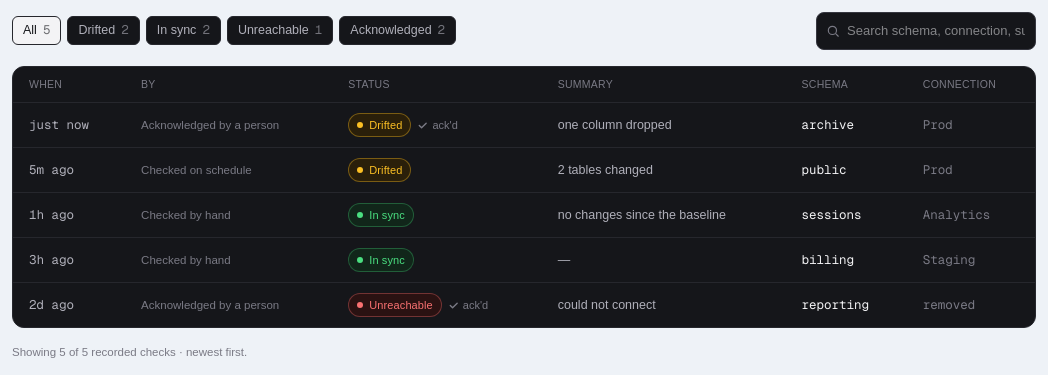
Test case: the search box › finds nothing that the filter has already excluded
The width and height of the screenshot is (1048, 375).
Click the button "In sync2" at {"x": 183, "y": 31}, box [146, 16, 221, 45]
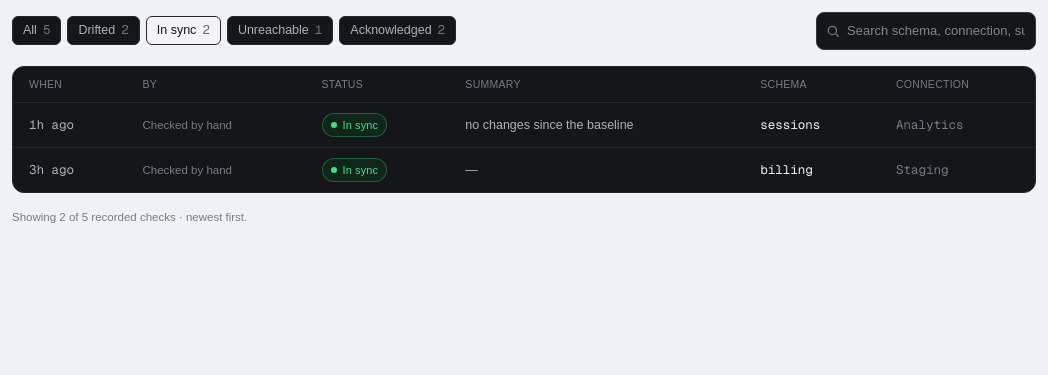
Type "archive" into the field named "Search the audit log" at {"x": 926, "y": 31}, box [816, 12, 1036, 50]
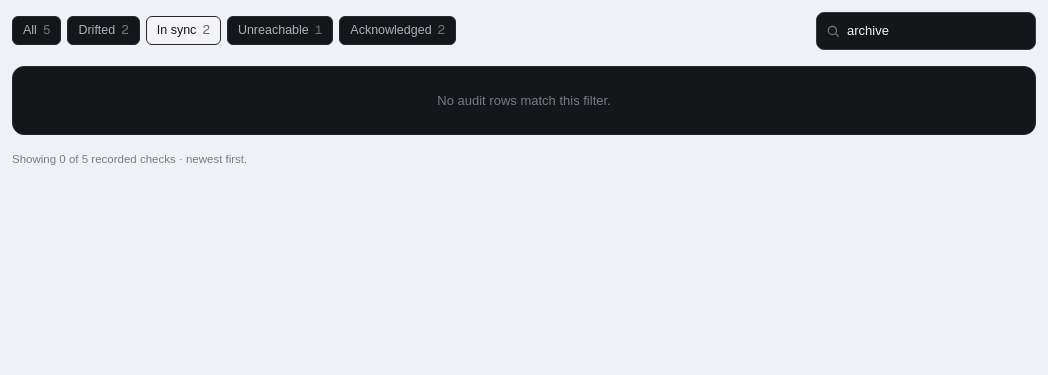
Expected: the text "No audit rows match this filter." is shown, [12, 66, 1036, 135]
